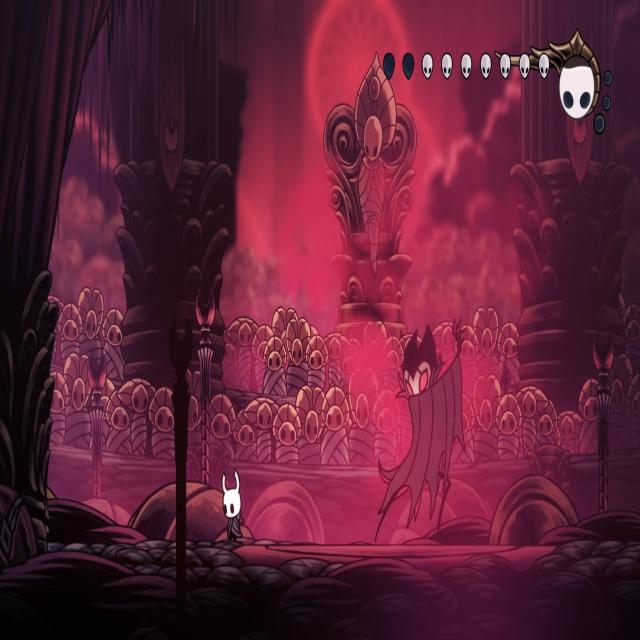Dash Uppercut: (372, 307, 470, 541)
Player: (218, 462, 245, 544)
